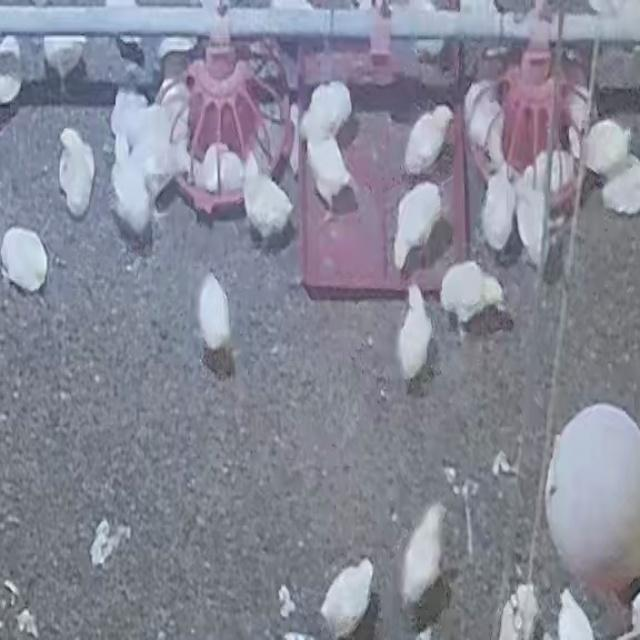chicken: (401, 504, 448, 612), (241, 154, 295, 244), (438, 260, 507, 330), (109, 131, 154, 237), (513, 165, 557, 271), (392, 183, 443, 271), (320, 560, 375, 638), (306, 136, 356, 215), (462, 82, 506, 169), (397, 281, 432, 388), (402, 105, 453, 177), (299, 80, 353, 146), (480, 166, 518, 257), (58, 127, 96, 216), (0, 226, 49, 292), (580, 117, 632, 178), (523, 148, 576, 204), (197, 270, 232, 354), (194, 143, 245, 196)
